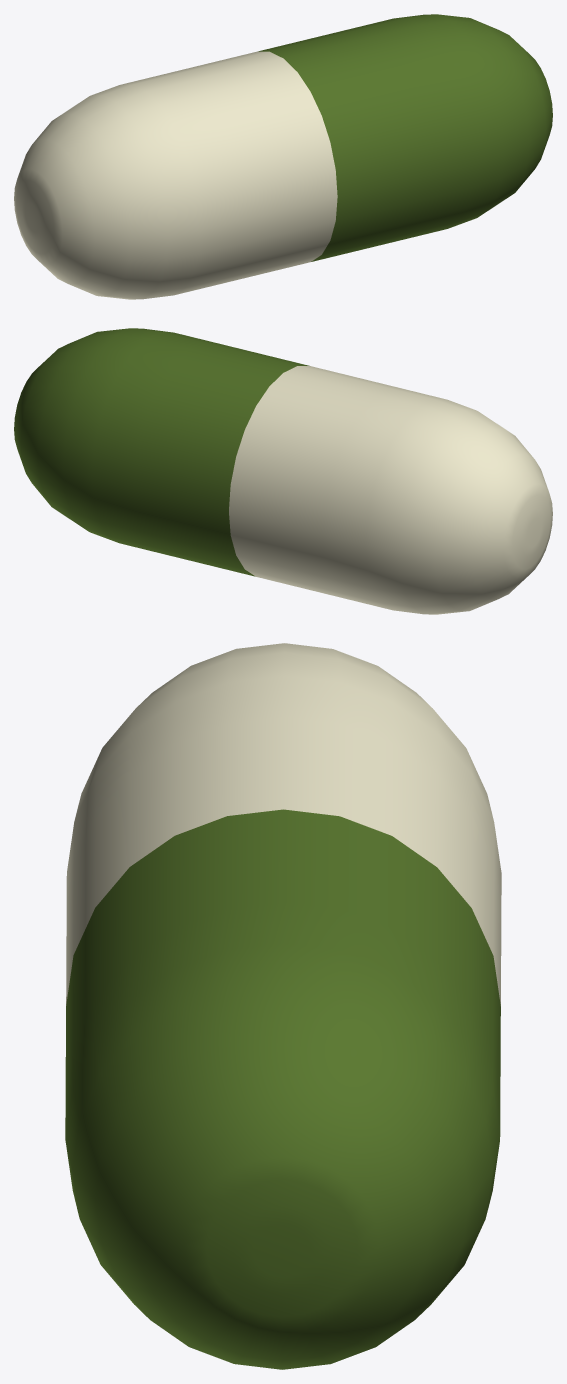
The model's file is Kapsul_Hap.fbx.
The picture shows the model from 3 angles, top to bottom: view 1: azimuth 30°, elevation 25°; view 2: azimuth 150°, elevation 25°; view 3: azimuth 270°, elevation 25°; orthographic projection. The views are drawn at different scales.
Parts seen in each view (by area): view 1: Kapsül_Hap; view 2: Kapsül_Hap; view 3: Kapsül_Hap.
Boxes of the visible parts, x1,y1,x2,y2 form: Kapsül_Hap: [14, 14, 552, 299]; Kapsül_Hap: [14, 328, 552, 614]; Kapsül_Hap: [65, 643, 501, 1369].
Bounding box in the file's own units: 31.17 × 11.71 × 11.75.
